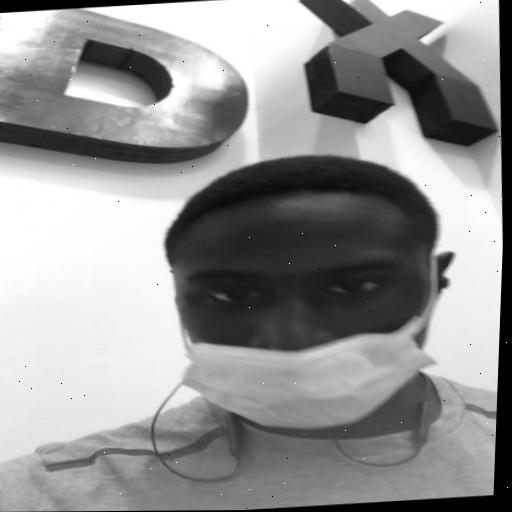mask: (158, 209, 447, 440)
